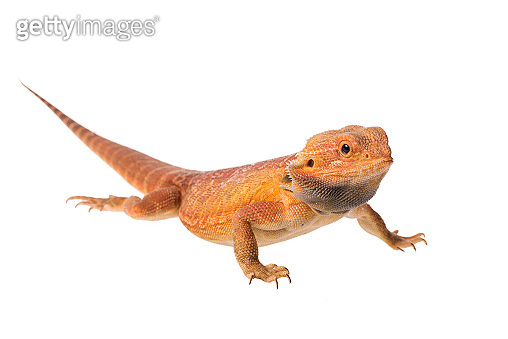bearded: (17, 73, 429, 290)
